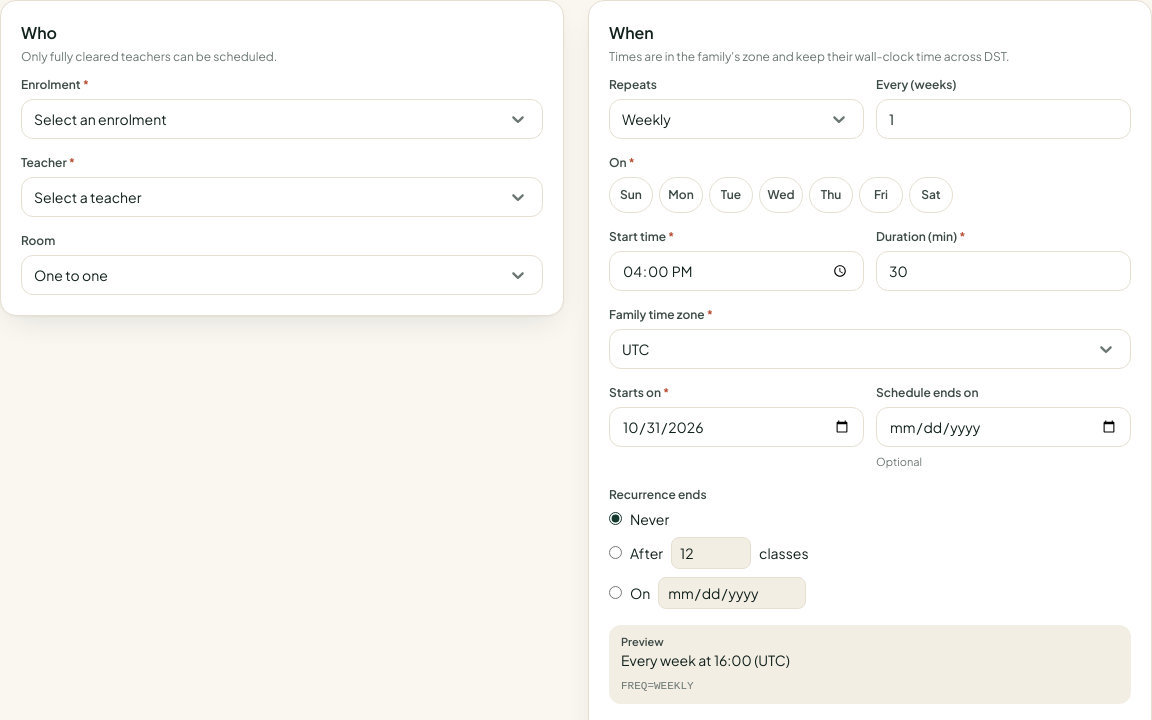
Test case: ScheduleBuilder › serialises weekday picks, interval and COUNT into the RRULE preview
Check: the text with test id "rrule-preview" reads "FREQ=WEEKLY", box [621,680,694,692]
Click the button with aria-label "Thursday": (831, 195) [809,177,853,213]
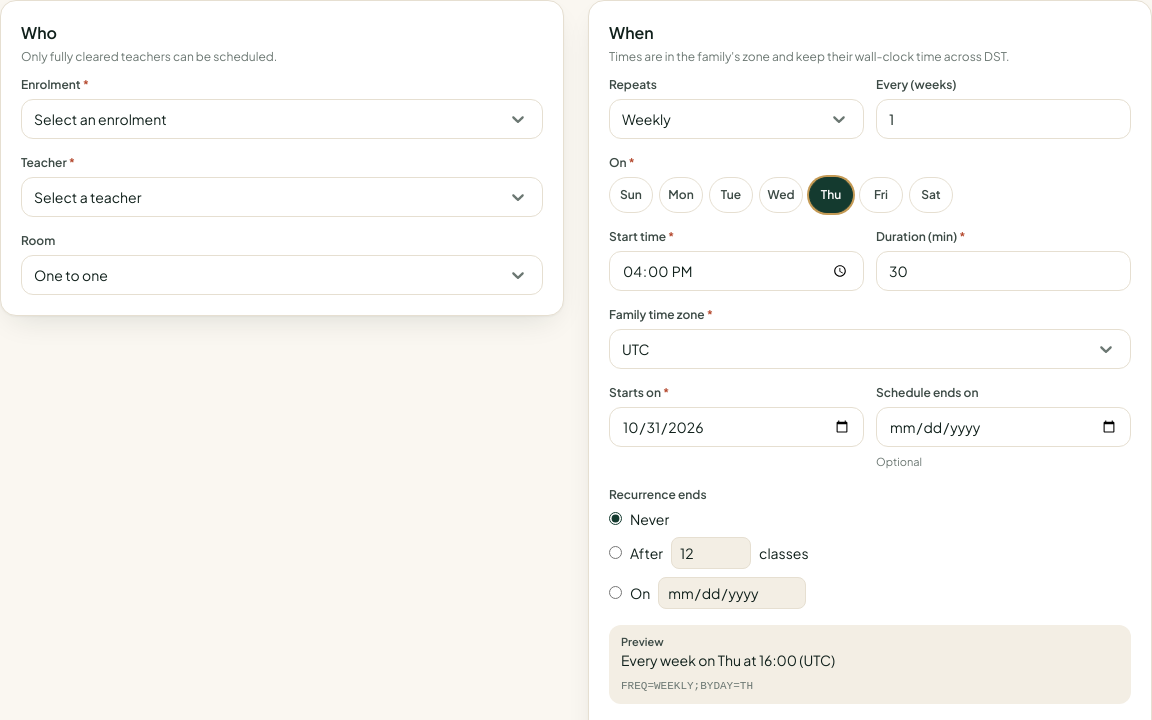
Click the button with aria-label "Tuesday": (731, 195) [709,177,753,213]
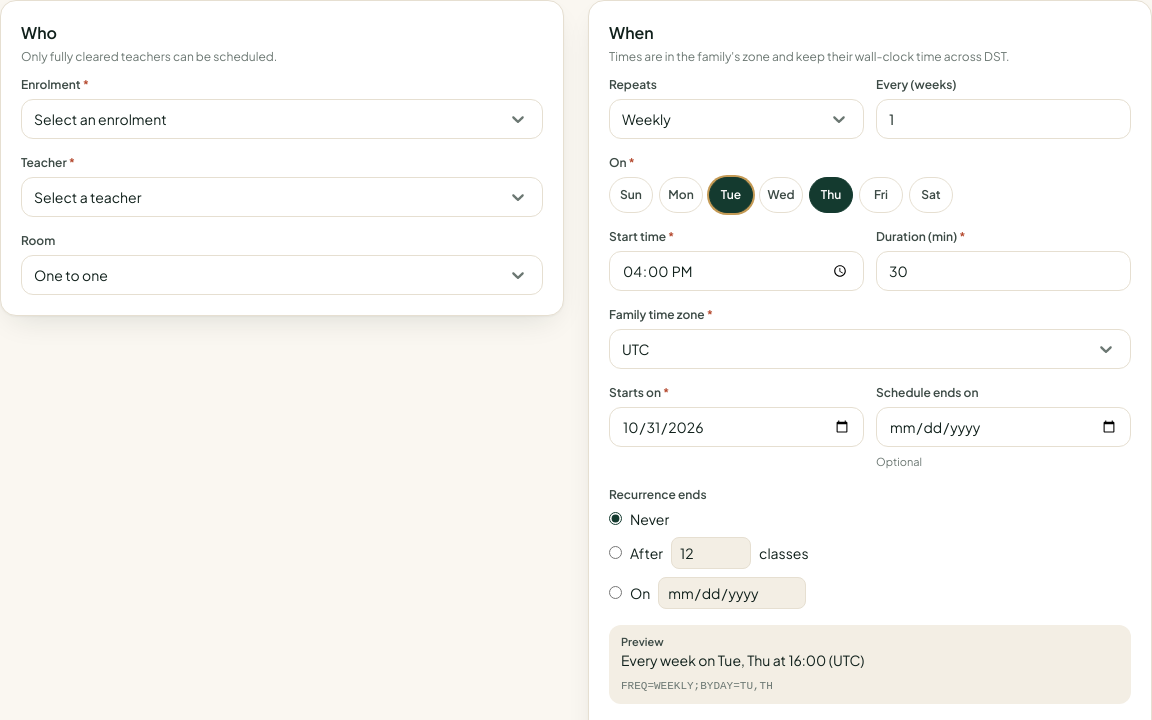
Check: the text with test id "rrule-preview" reads "FREQ=WEEKLY;BYDAY=TU,TH", box [621,680,773,692]
Replace the text in the number field labelled "Every (weeks)" with "2": (1004, 119) [876,99,1131,139]
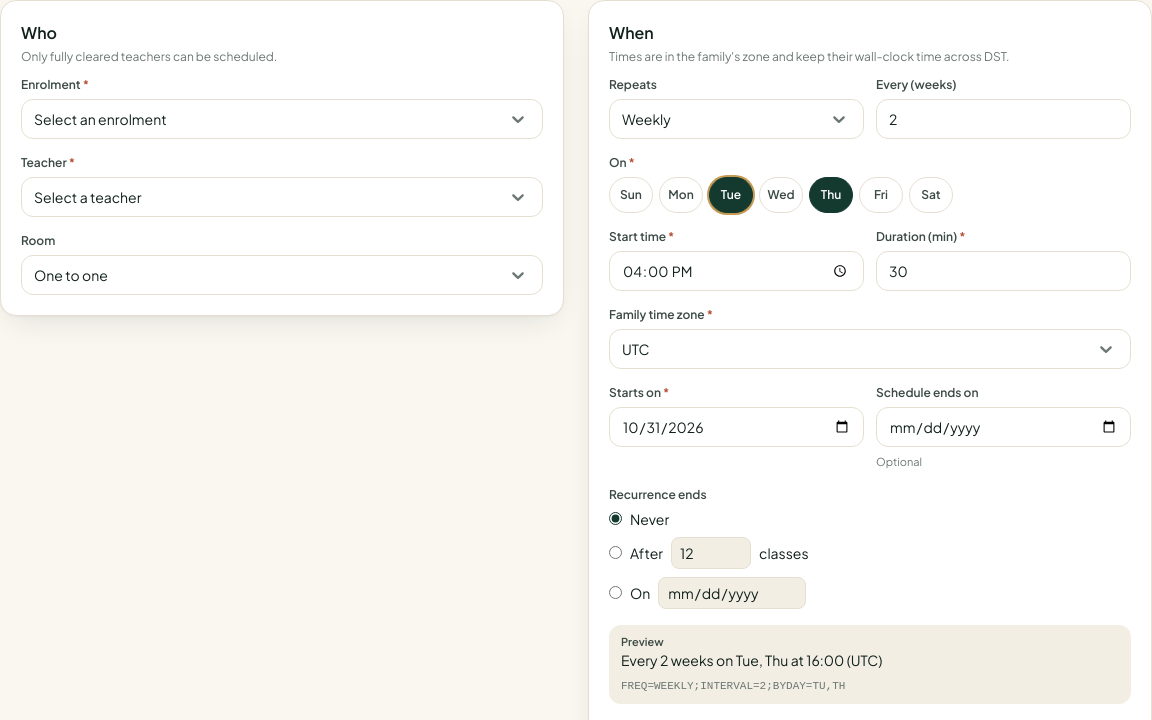
Click the radio button labelled "After classes": (616, 553) [609,546,622,559]
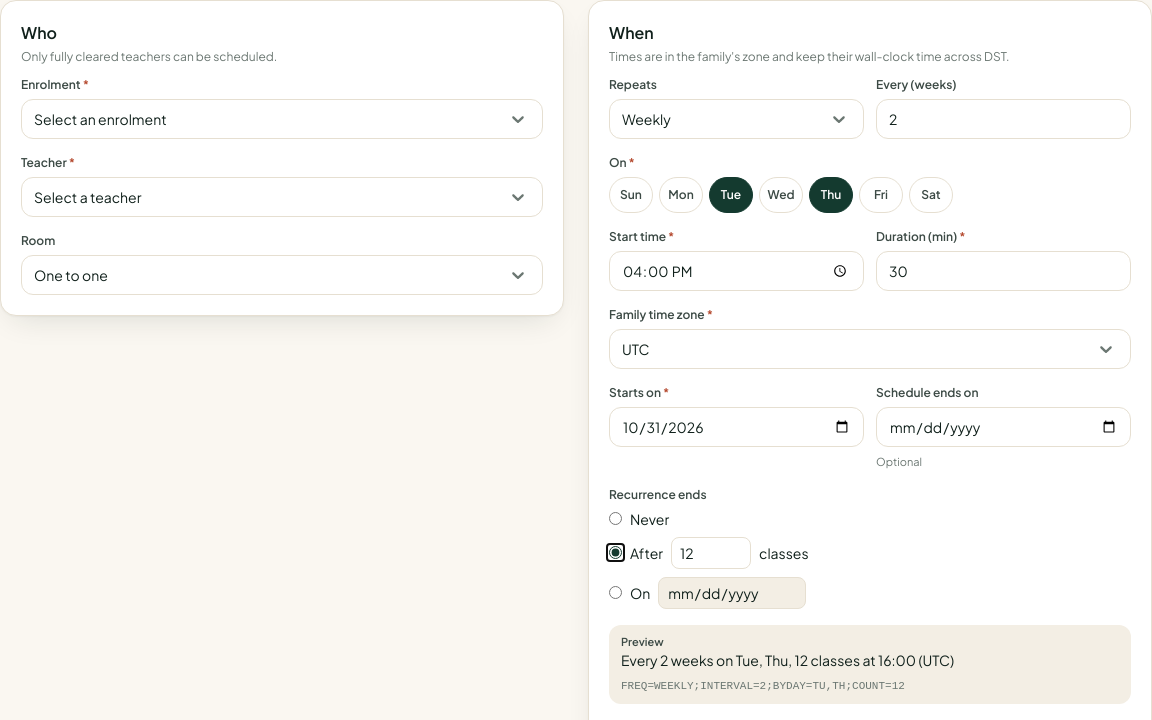
Replace the text in the number field named "Number of classes" with "8": (711, 553) [671,537,751,569]
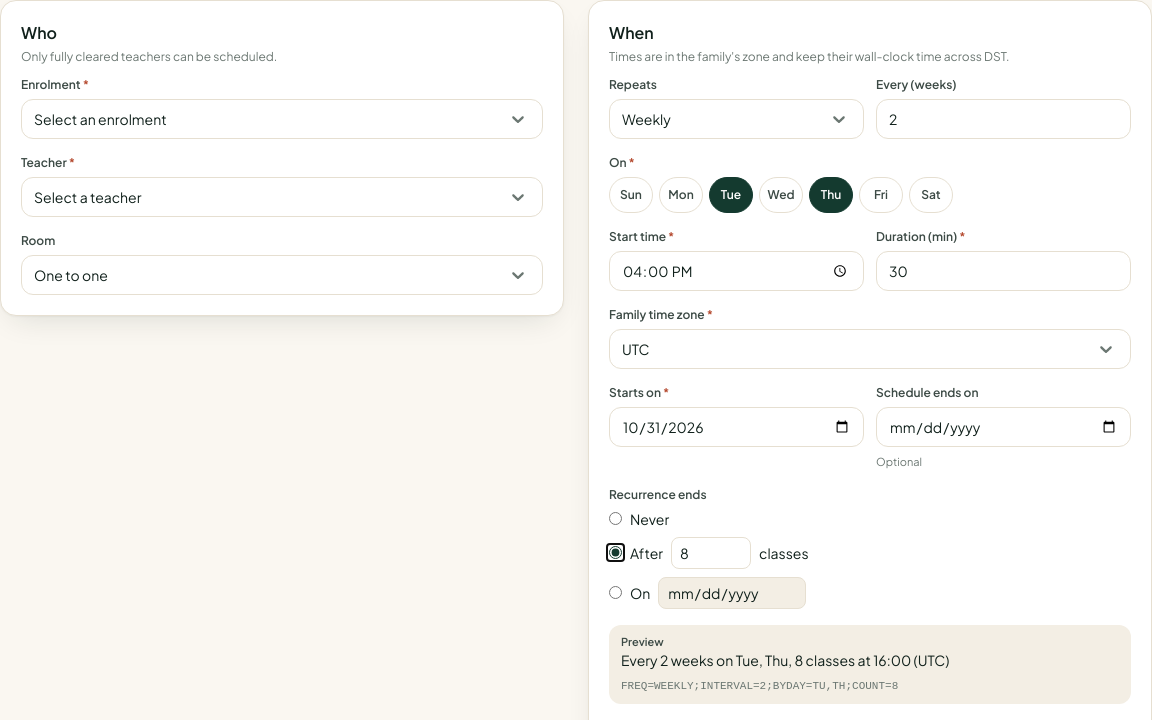
Check: the text with test id "rrule-preview" reads "FREQ=WEEKLY;INTERVAL=2;BYDAY=TU,TH;COUNT=8", box [621,680,898,692]
Check: the text "Every 2 weeks on Tue, Thu, 8 classes at 16:00 (UTC)" is shown, box [621,651,949,669]
# Toggling a day off removes it.
Click the button with aria-label "Thursday": (831, 195) [809,177,853,213]
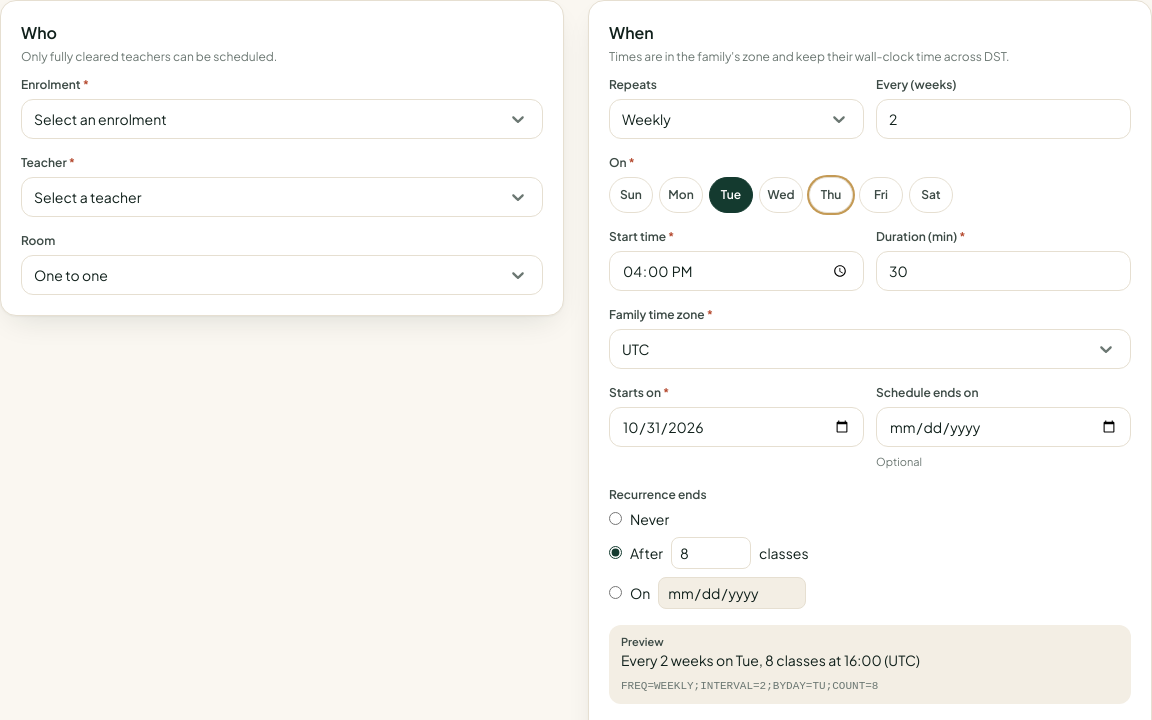
Check: the text with test id "rrule-preview" reads "FREQ=WEEKLY;INTERVAL=2;BYDAY=TU;COUNT=8", box [621,680,878,692]
